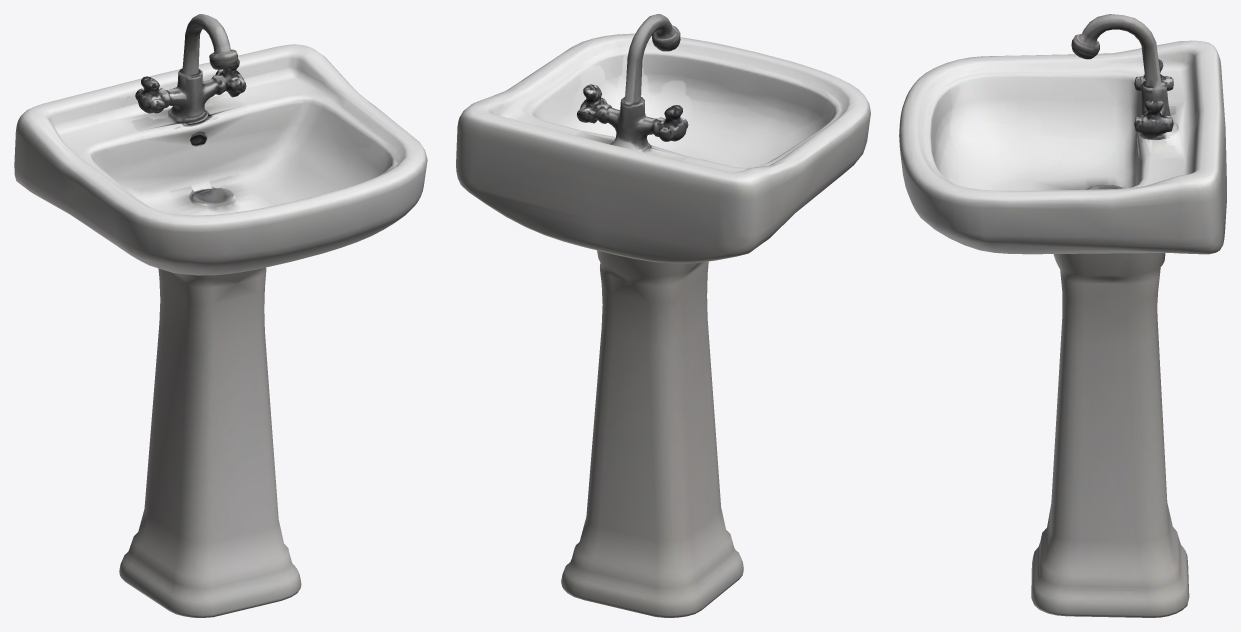
File: Appliances__wash_basin_realistic_style_d750ce2f_v3.cluster.glb
3 renders of one model, left to right at view 1: azimuth 30°, elevation 25°; view 2: azimuth 150°, elevation 25°; view 3: azimuth 270°, elevation 25°, orthographic.
Visible parts, largest first — view 1: mesh_input; view 2: mesh_input; view 3: mesh_input.
Boxes of the visible parts, x1,y1,x2,y2 form: mesh_input: (14,14,427,617); mesh_input: (456,14,870,617); mesh_input: (899,14,1226,617).
Size of the model in its own units: 1.07 by 1.9 by 0.9883.
Materials: 1 (1 with a texture image).
